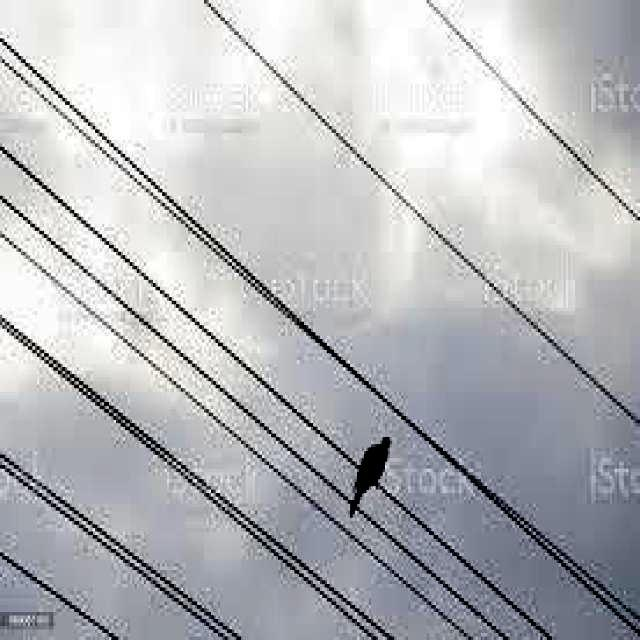bird: (344, 426, 390, 525)
